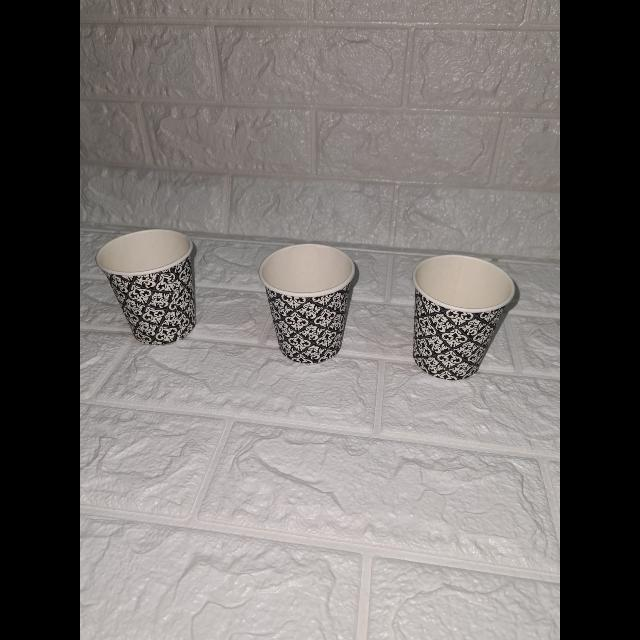trash: (395, 250, 523, 378), (262, 240, 361, 366), (113, 224, 203, 360)
